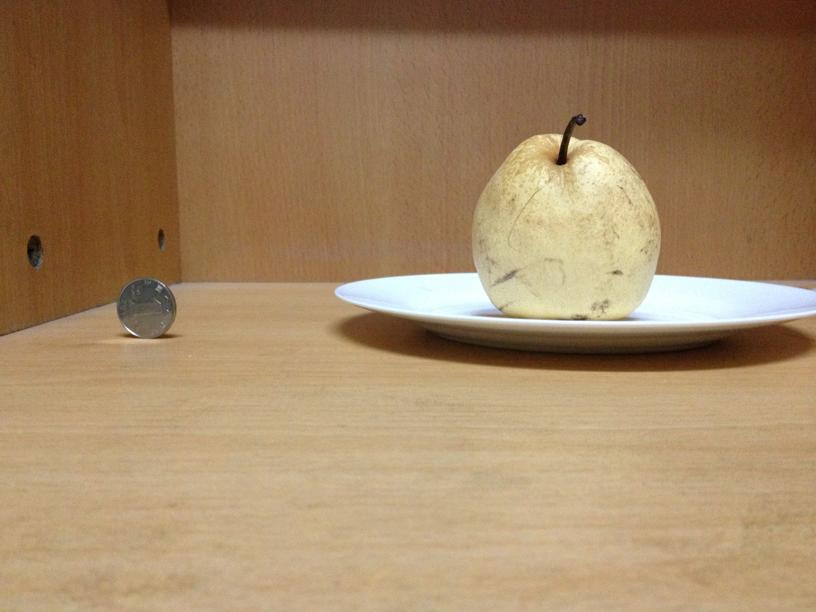coin: (116, 278, 174, 337)
pear: (469, 133, 660, 319)
